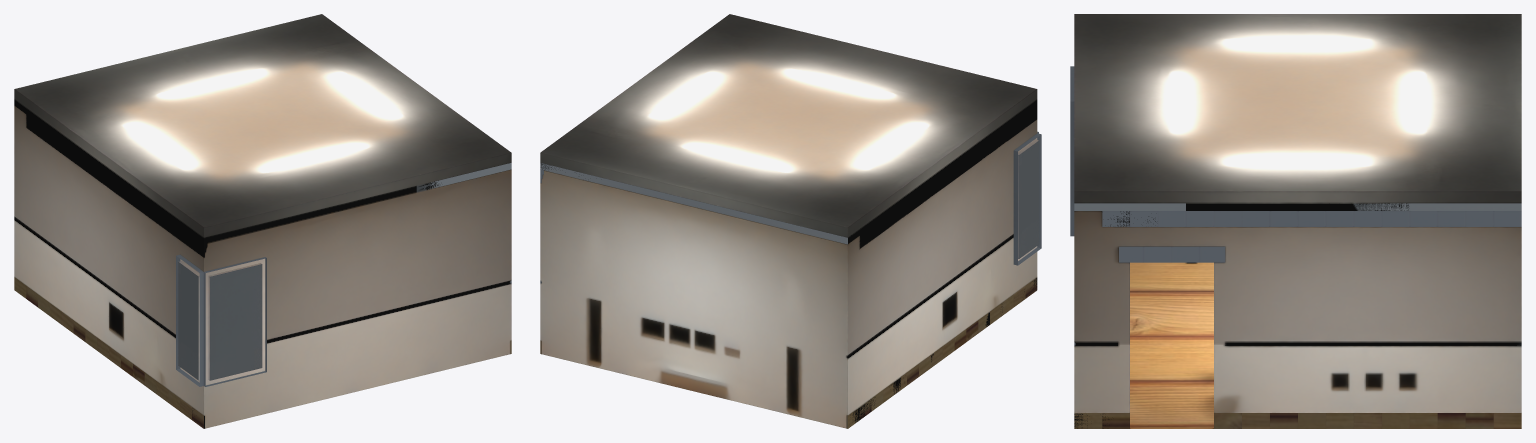
File: encounter-room.glb
3 renders of one model, left to right at view 1: azimuth 30°, elevation 25°; view 2: azimuth 150°, elevation 25°; view 3: azimuth 270°, elevation 25°, orthographic. The views are drawn at different scales.
Parts seen in each view (by area): view 1: InteriorTest baked clinical room; view 2: InteriorTest baked clinical room; view 3: InteriorTest baked clinical room.
Boxes of the visible parts, x1,y1,x2,y2 form: InteriorTest baked clinical room: [14, 14, 511, 428]; InteriorTest baked clinical room: [540, 14, 1041, 428]; InteriorTest baked clinical room: [1070, 14, 1521, 428].
Bounding box in the file's own units: 12.17 × 7.5 × 12.91.
2 materials, 2 textured.
